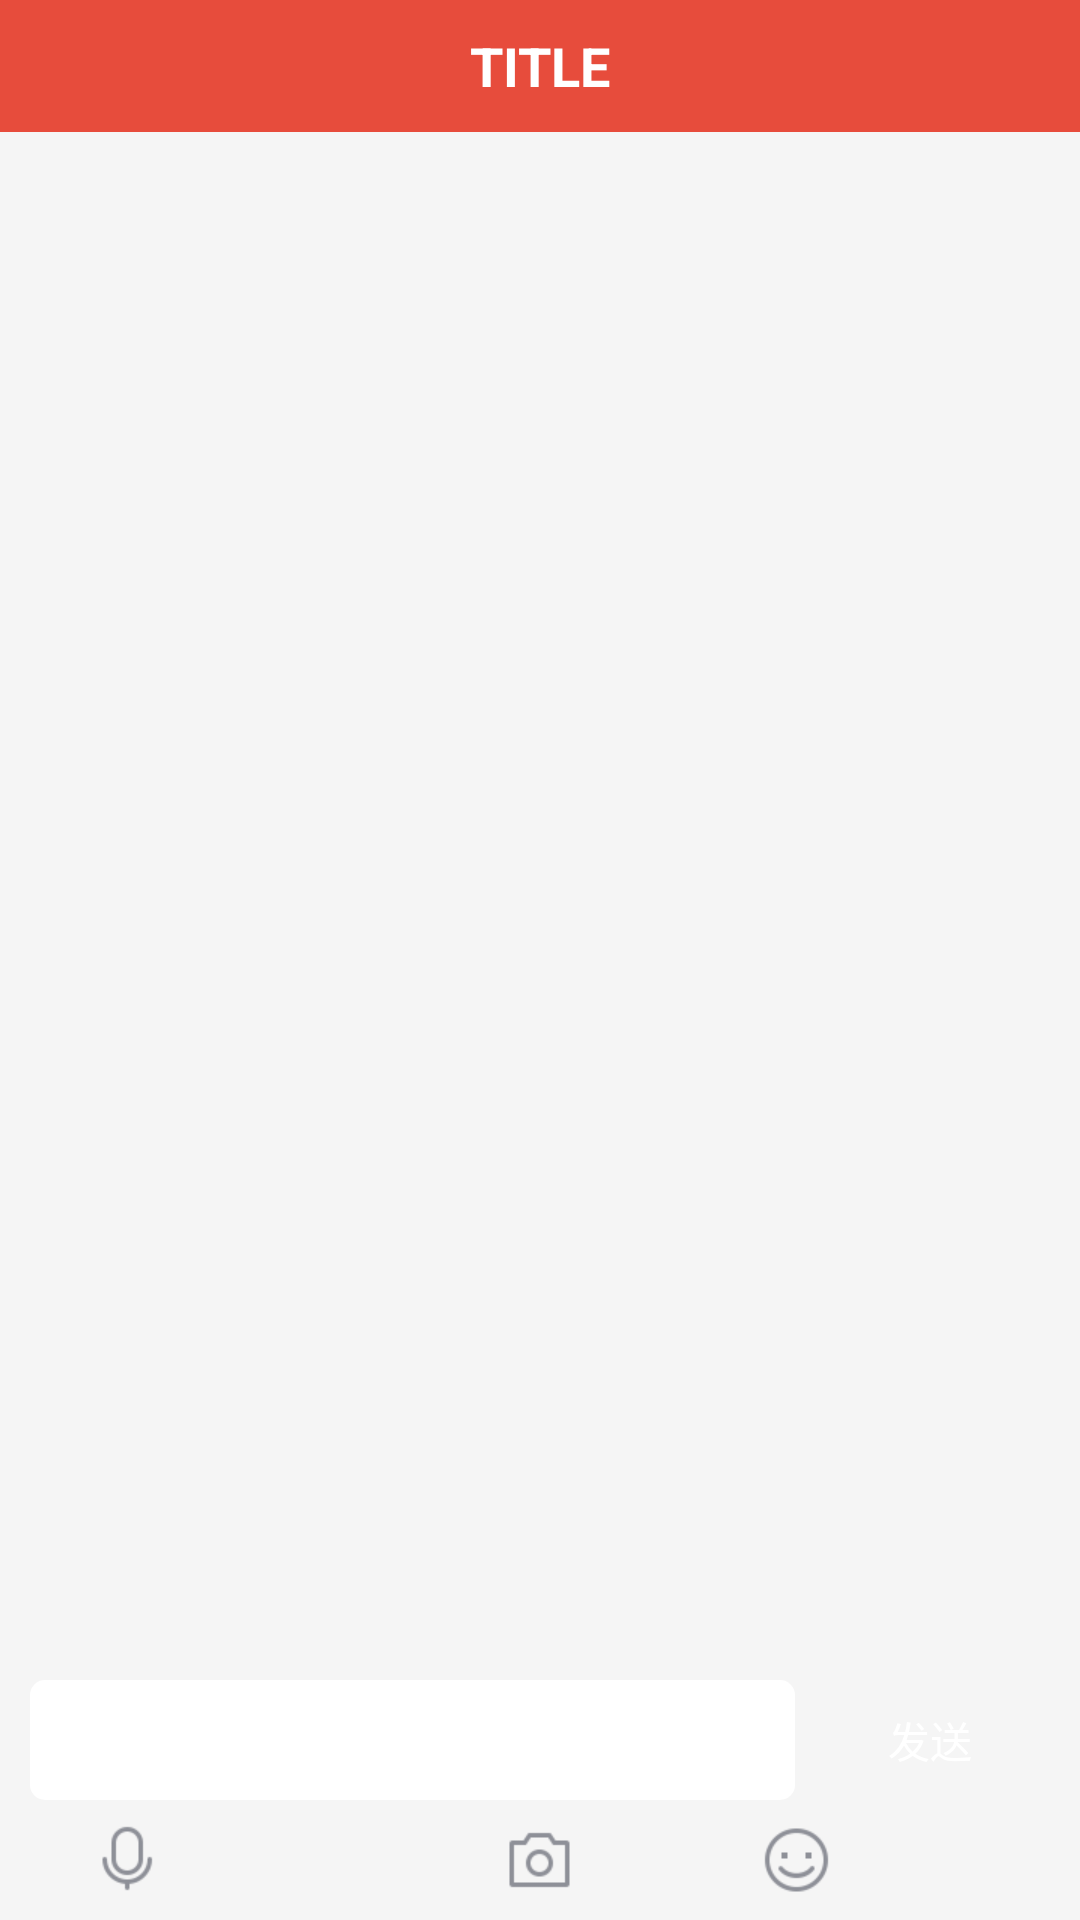

Icon click points for this 1080x1920 phone screenshot, format (x,y):
bottombar audio: (127,1858)
bottombar camera: (539,1860)
